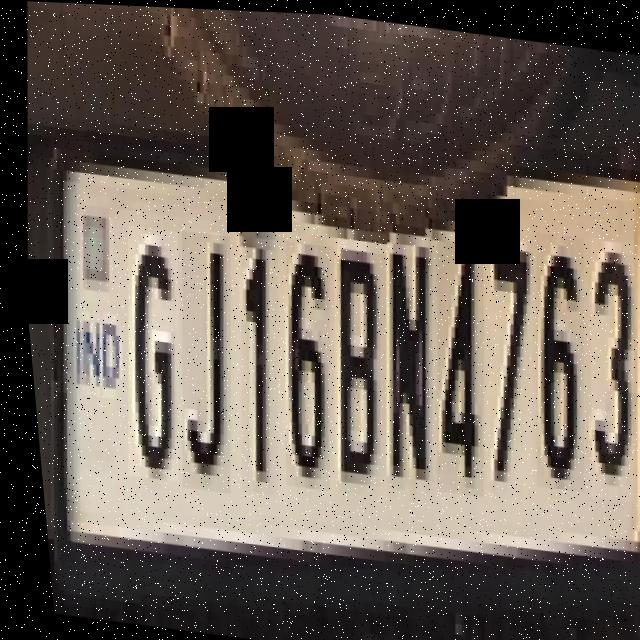1: (215, 239, 290, 494)
3: (563, 231, 640, 498)
4: (410, 234, 496, 493)
6: (510, 226, 598, 488), (260, 238, 342, 489)
7: (458, 215, 547, 484)
B: (307, 231, 396, 498)
G: (101, 224, 191, 481)
J: (155, 228, 243, 492)
N: (359, 225, 445, 488)
